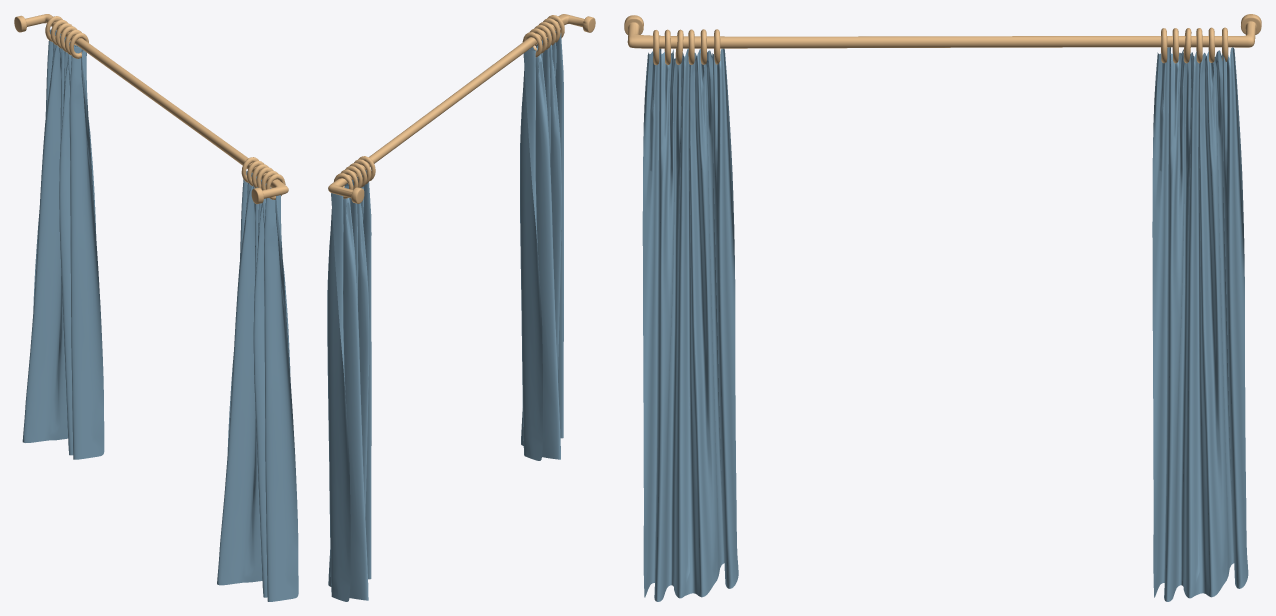
File: Cortinas.fbx
3 renders of one model, left to right at view 1: azimuth 30°, elevation 25°; view 2: azimuth 150°, elevation 25°; view 3: azimuth 270°, elevation 25°, orthographic. The views are drawn at different scales.
Parts seen in each view (by area): view 1: Cortina 1.001, Cortina 1, Soporte cortinas, Anillos cortina.001, Anillos cortina; view 2: Cortina 1, Cortina 1.001, Soporte cortinas, Anillos cortina, Anillos cortina.001; view 3: Cortina 1.001, Cortina 1, Soporte cortinas, Anillos cortina, Anillos cortina.001.
Part boxes in pixels (x1,y1,x2,y2): Cortina 1.001: (22,29,104,459); Cortina 1: (217,171,298,601); Soporte cortinas: (14,14,288,204); Anillos cortina.001: (45,16,88,58); Anillos cortina: (241,157,285,199); Cortina 1: (520,31,563,460); Cortina 1.001: (327,170,371,601); Soporte cortinas: (328,14,595,203); Anillos cortina: (522,15,564,57); Anillos cortina.001: (334,156,375,198); Cortina 1.001: (1152,47,1248,601); Cortina 1: (642,48,738,601); Soporte cortinas: (624,14,1261,48); Anillos cortina: (653,29,720,65); Anillos cortina.001: (1161,27,1228,63).
Size of the model in its own units: 3.13 by 23.12 by 23.92.
